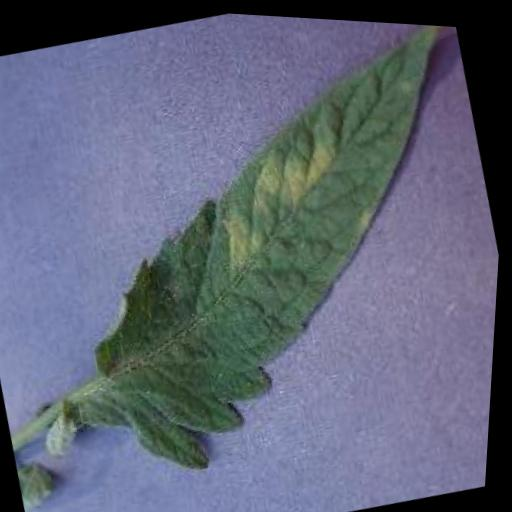Leaf Mold: (1, 1, 512, 506)
